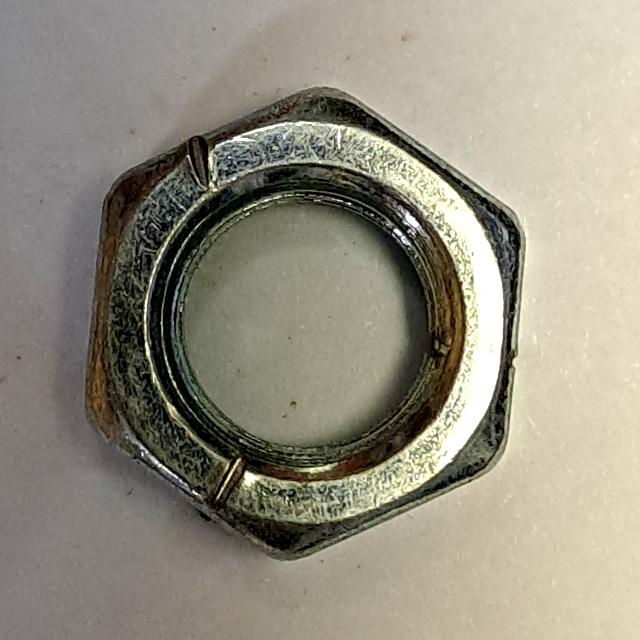Scratches: (66, 75, 545, 586)
